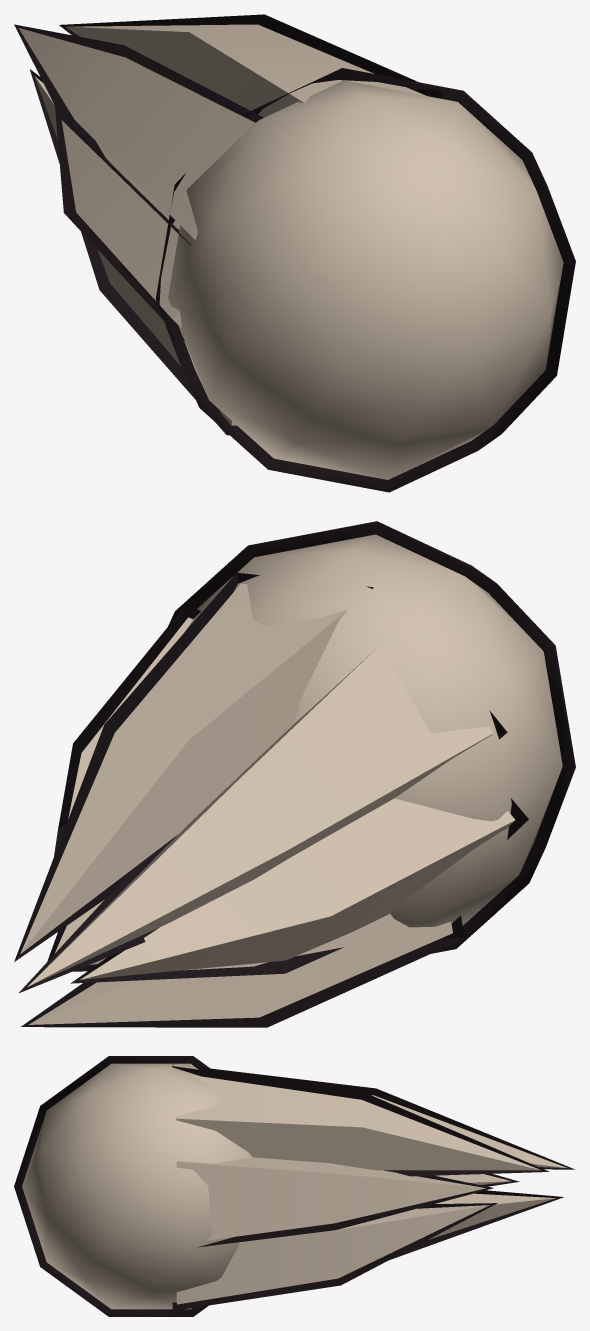
Rendered from SM_MagicBall.fbx.
3 views of the same model, one above another, from view 1: azimuth 30°, elevation 25°; view 2: azimuth 150°, elevation 25°; view 3: azimuth 270°, elevation 25° (orthographic). The views are drawn at different scales.
Visible parts, largest first — view 1: SM_MagicBall; view 2: SM_MagicBall; view 3: SM_MagicBall.
Part boxes in pixels (x1=…): SM_MagicBall: x1=14, y1=14, x2=575, y2=492; SM_MagicBall: x1=14, y1=521, x2=575, y2=1027; SM_MagicBall: x1=14, y1=1056, x2=574, y2=1316.
Size of the model in its own units: 0.3288 by 0.34 by 0.6967.
